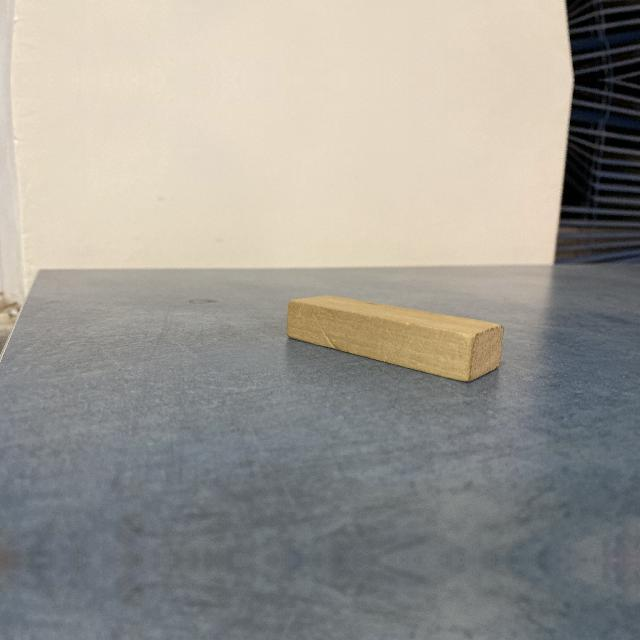jenga: (289, 292, 502, 381)
